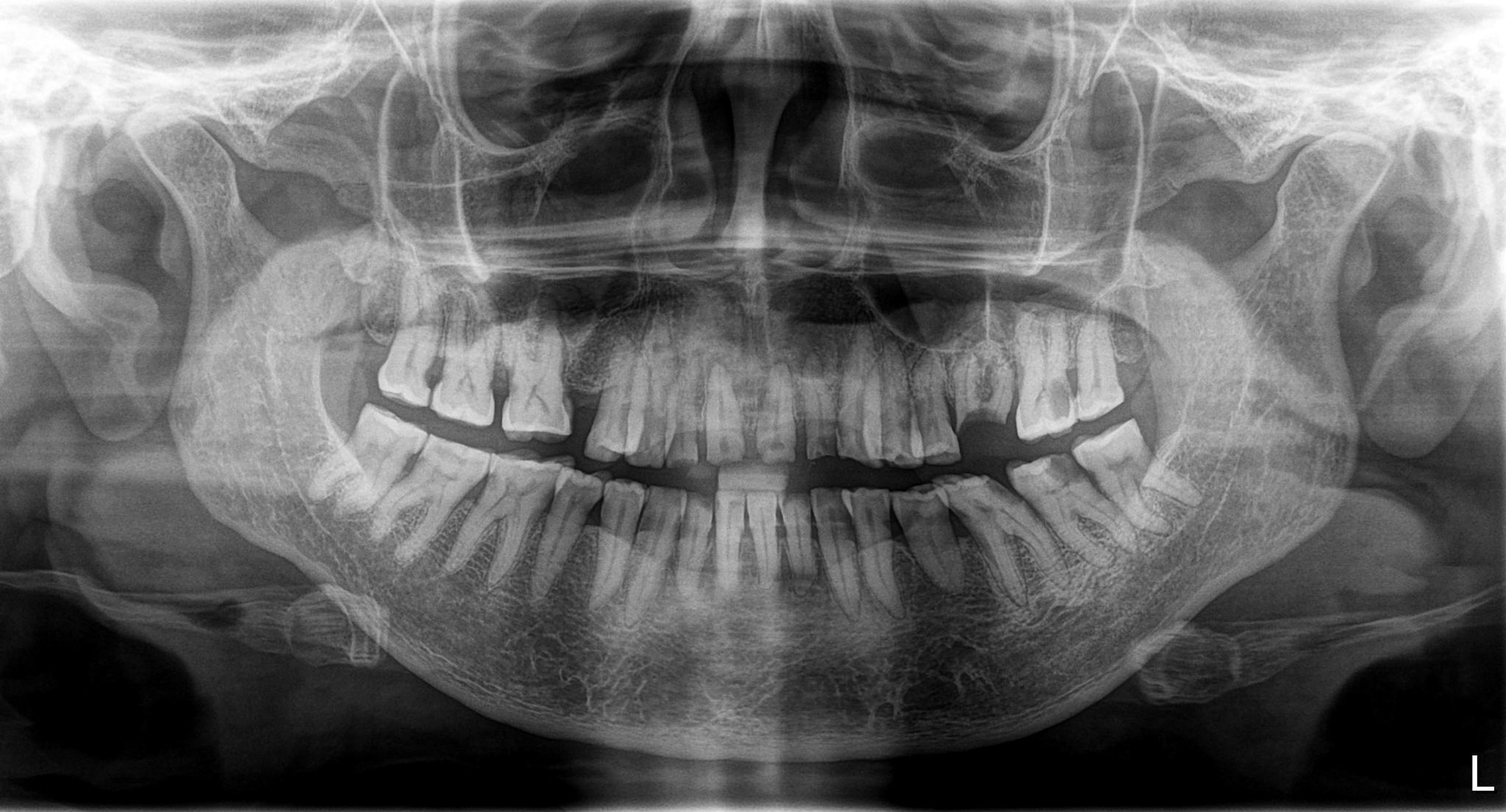Dental Caries: (423, 355, 443, 391)
Missing Tooth: (954, 347, 1014, 448), (564, 316, 626, 413)
